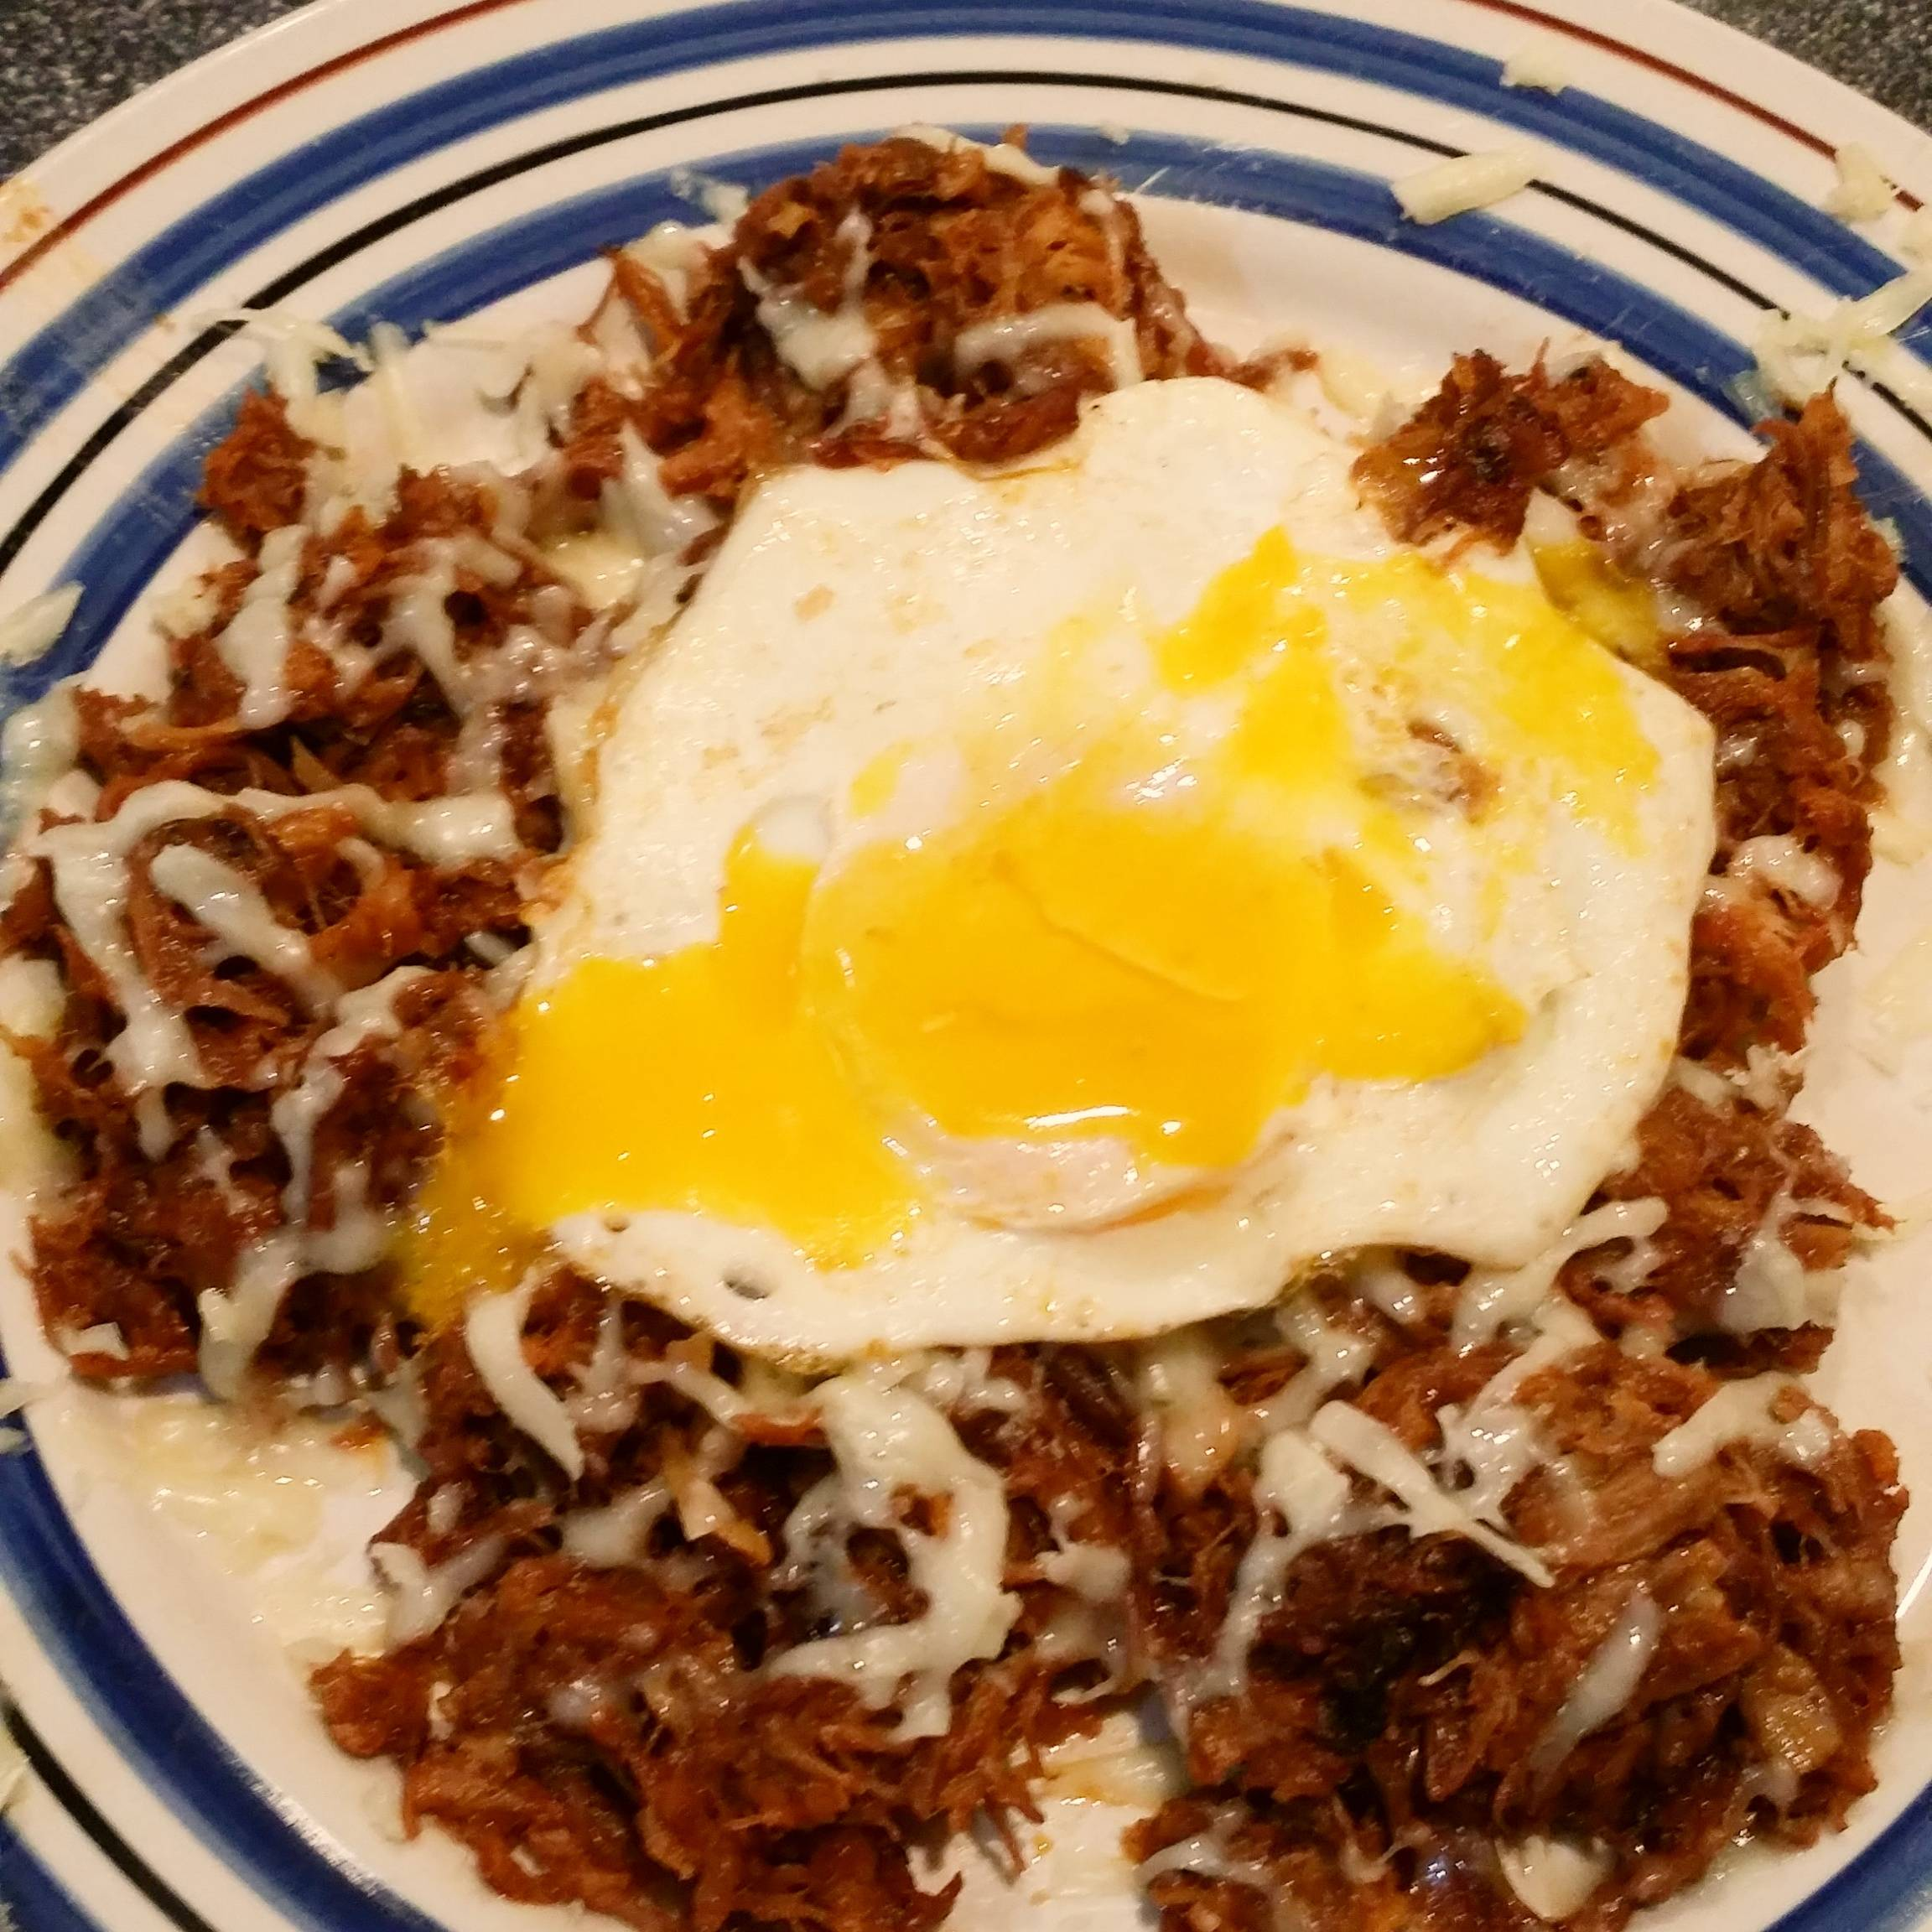fried egg: (699, 552, 1499, 1267)
